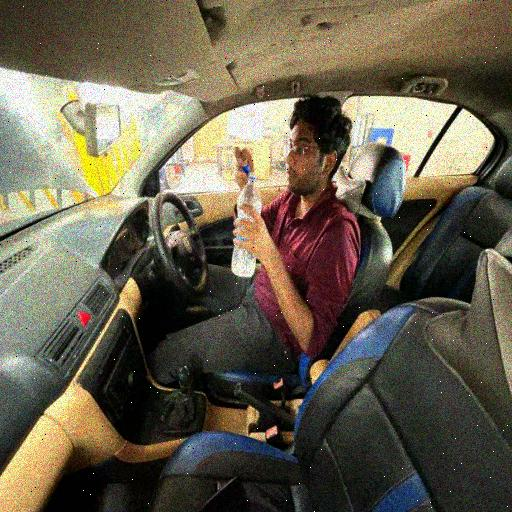Drinking: (198, 93, 362, 370)
